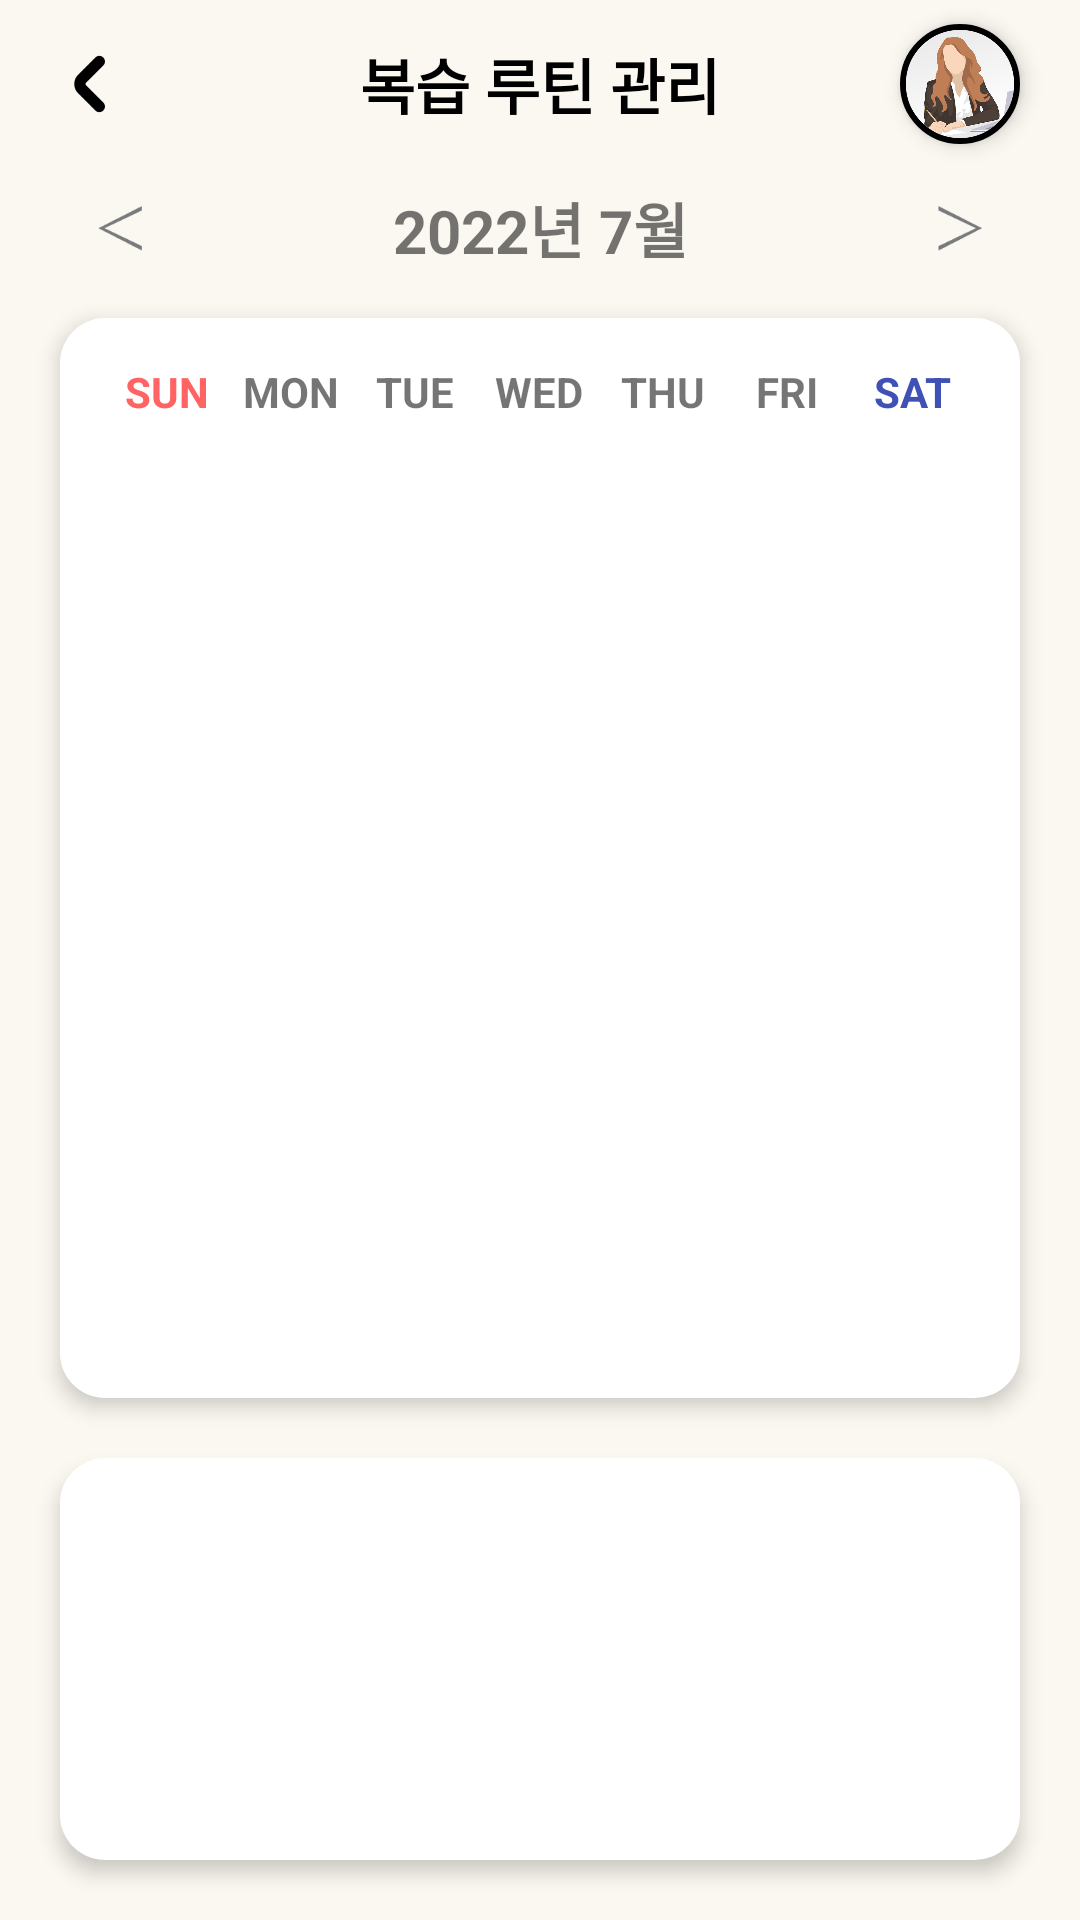

Icon bounding boxes for this 1080*1920 phone screenshot, format (x1, y1, x2, y2):
arrow left: (99, 206, 142, 251)
arrow right: (938, 206, 982, 250)
back: (74, 55, 105, 113)
profile: (900, 24, 1020, 144)
